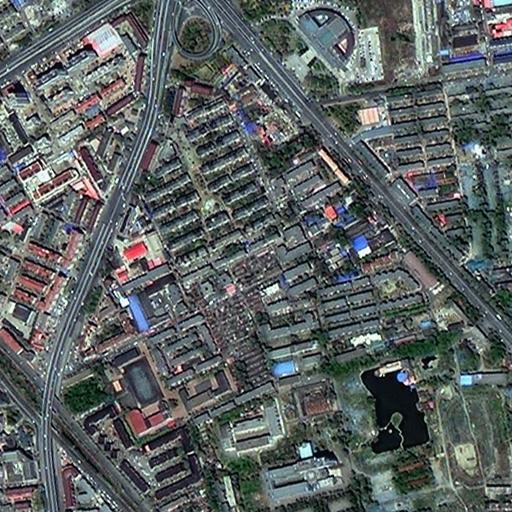school: (108, 344, 180, 440)
